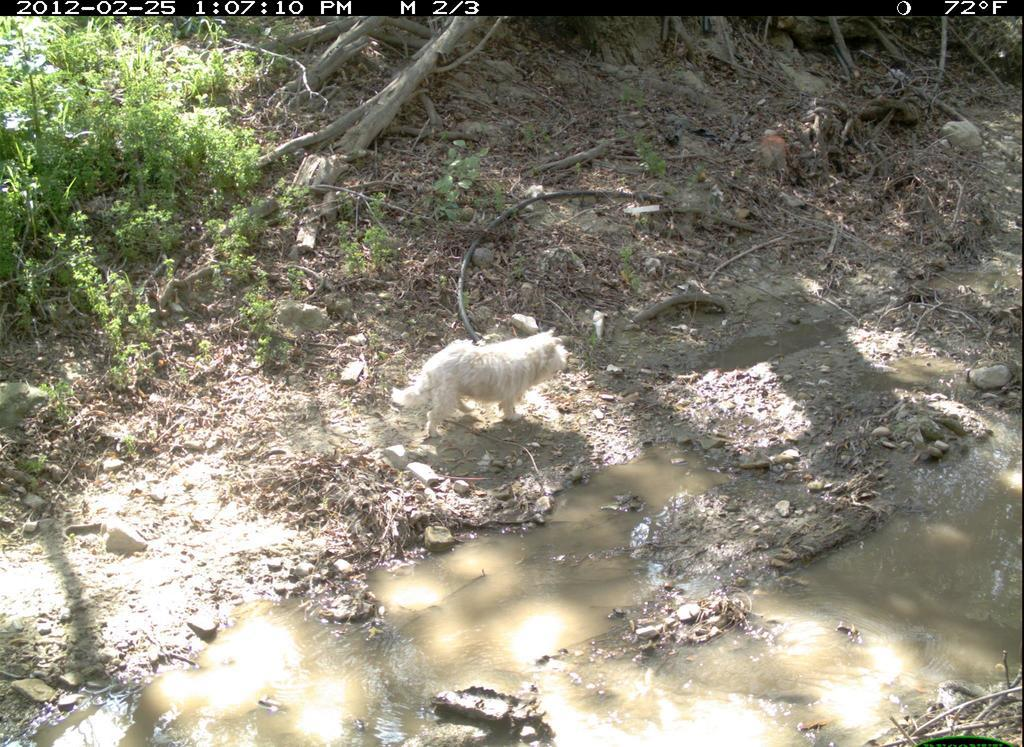dog: (381, 318, 583, 447)
